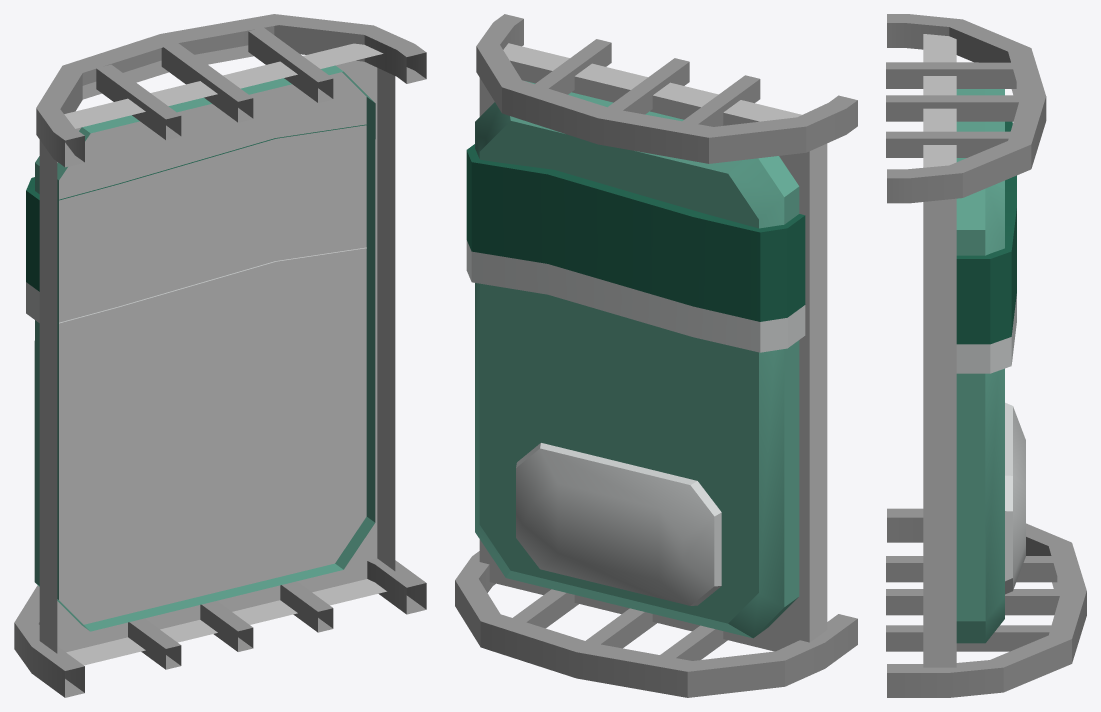
File: Bed 02.FBX
3 renders of one model, left to right at view 1: azimuth 30°, elevation 25°; view 2: azimuth 150°, elevation 25°; view 3: azimuth 270°, elevation 25°, orthographic. The views are drawn at different scales.
Visible parts, largest first — view 1: Bed 02; view 2: Bed 02; view 3: Bed 02.
Part boxes in pixels (x1,y1,x2,y2): Bed 02: (14,14,426,697); Bed 02: (455,14,857,697); Bed 02: (886,14,1086,697).
Bounding box in the file's own units: 216 × 319 × 112.
